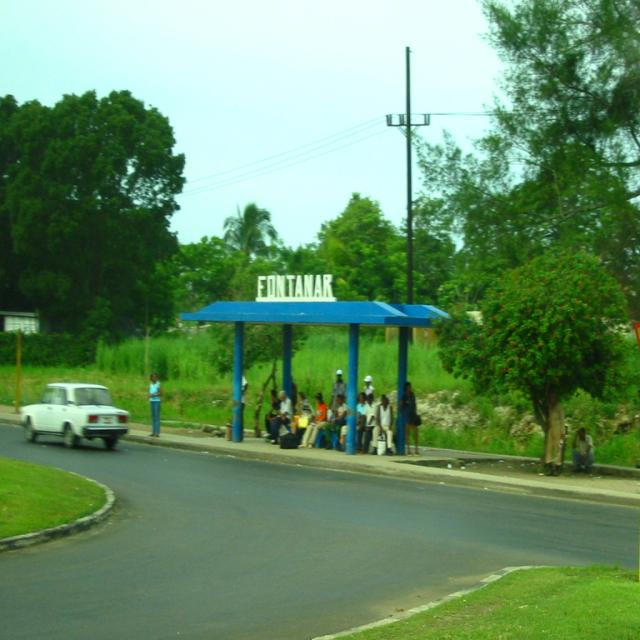car: (11, 383, 128, 447)
